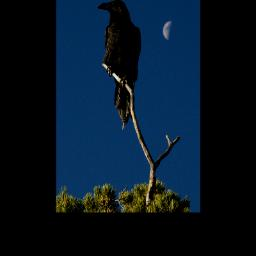Crow: (96, 0, 142, 132)
